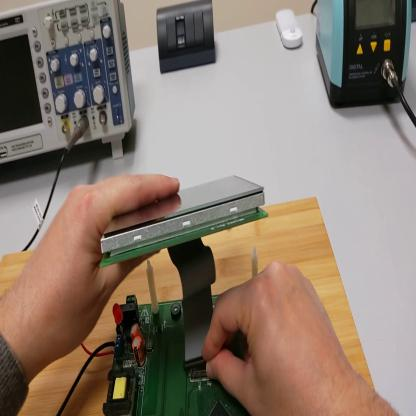hand: (26, 172, 184, 365), (205, 262, 350, 415)
low voltage board: (59, 176, 270, 415)
oscilloscope: (2, 6, 137, 161)
welder station: (316, 3, 414, 107)
working area: (3, 197, 382, 414)
